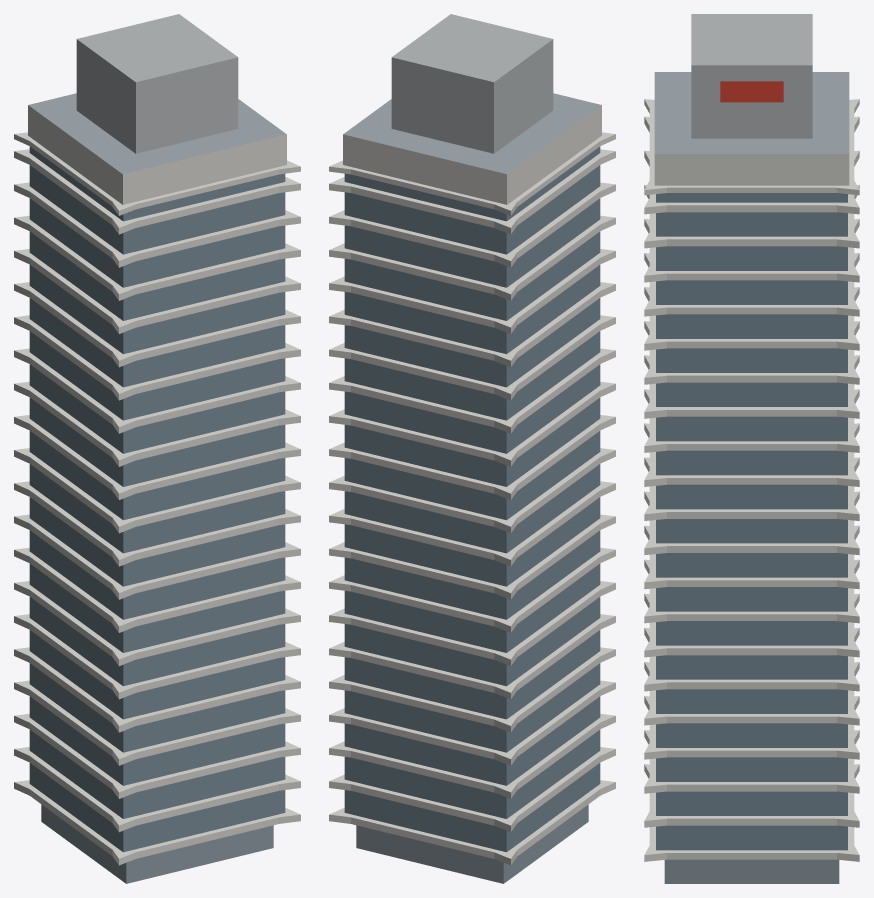
Rendered from barcelona-torre-mapfre.glb.
The picture shows the model from 3 angles, left to right: view 1: azimuth 30°, elevation 25°; view 2: azimuth 150°, elevation 25°; view 3: azimuth 270°, elevation 25°; orthographic projection. The views are drawn at different scales.
Visible parts, largest first — view 1: Torre Mapfre; view 2: Torre Mapfre; view 3: Torre Mapfre.
Part boxes in pixels (box(x1,y1,x2,y2)): Torre Mapfre: box(14, 14, 300, 883); Torre Mapfre: box(329, 14, 615, 883); Torre Mapfre: box(644, 14, 859, 883).
Bounding box in the file's own units: 37.24 × 154 × 37.24.
